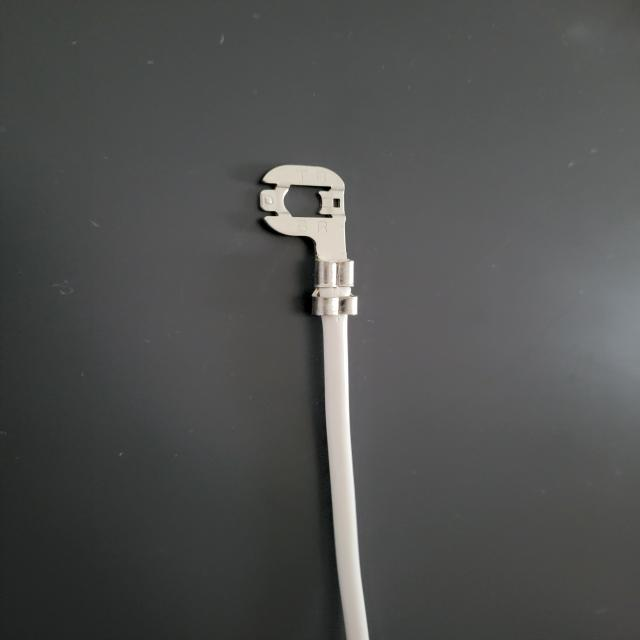defect: (286, 242, 453, 341)
